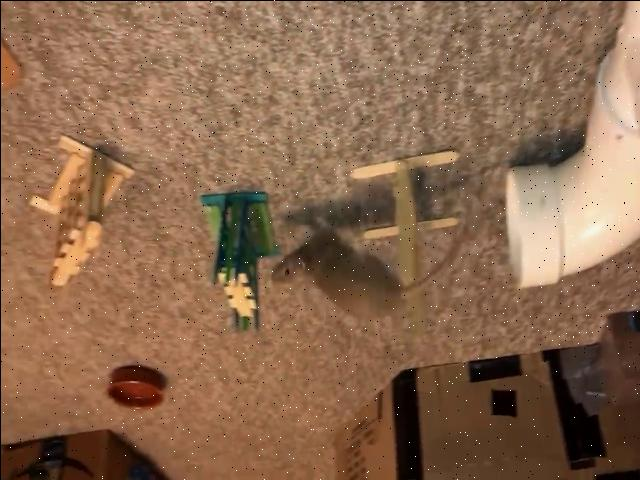Tikus: (268, 214, 404, 322)
